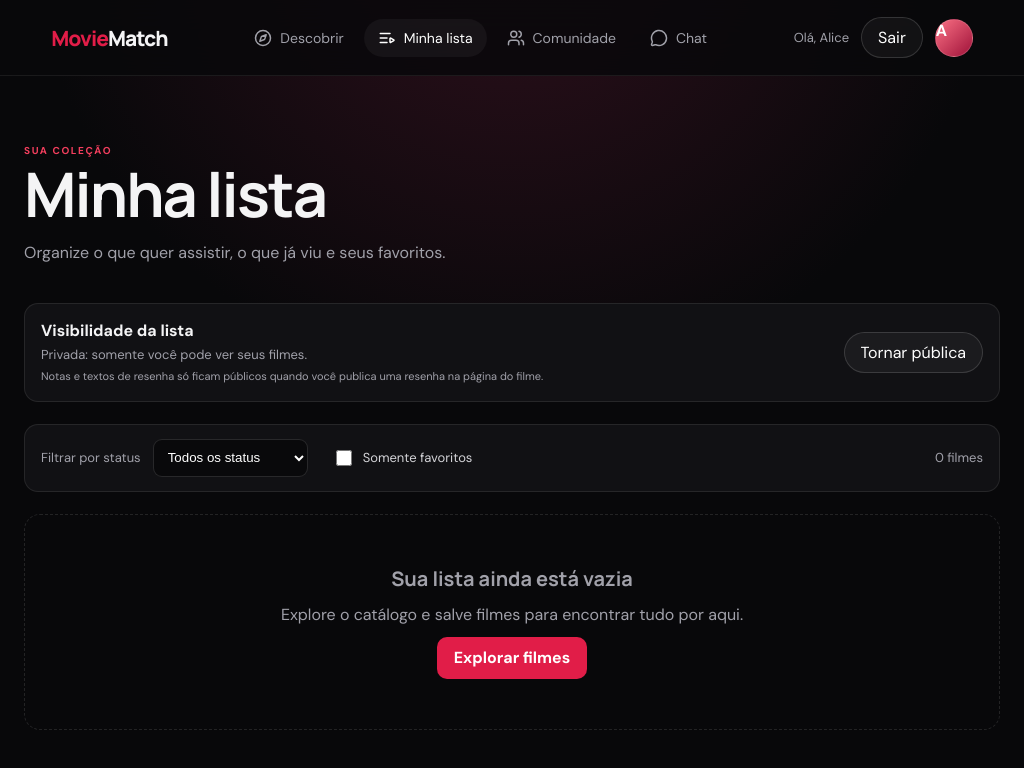
Test case: MovieMatch home › publishes the list only by explicit choice and displays its share link
Expected: the text "Privada: somente você pode ver seus filmes." is shown, [41, 346, 307, 363]
Click the button "Tornar pública" at (913, 352), box [844, 332, 983, 373]
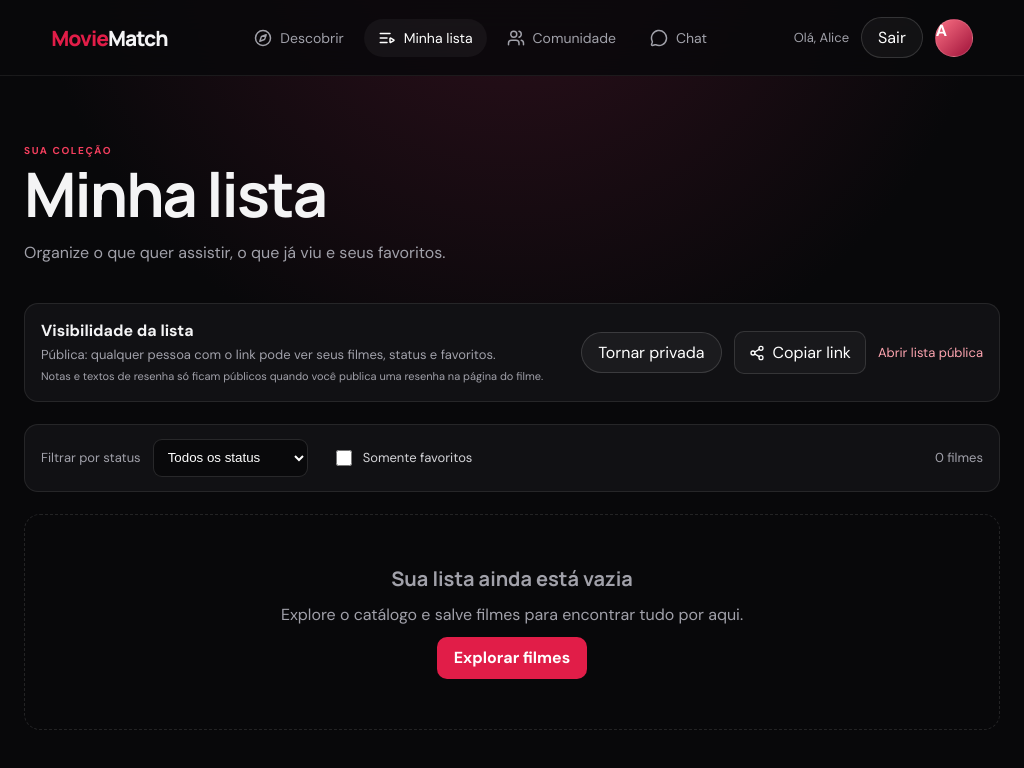
Expected: the text "Pública: qualquer pessoa com o link pode ver seus filmes, status e favoritos." is shown, [41, 346, 543, 363]
